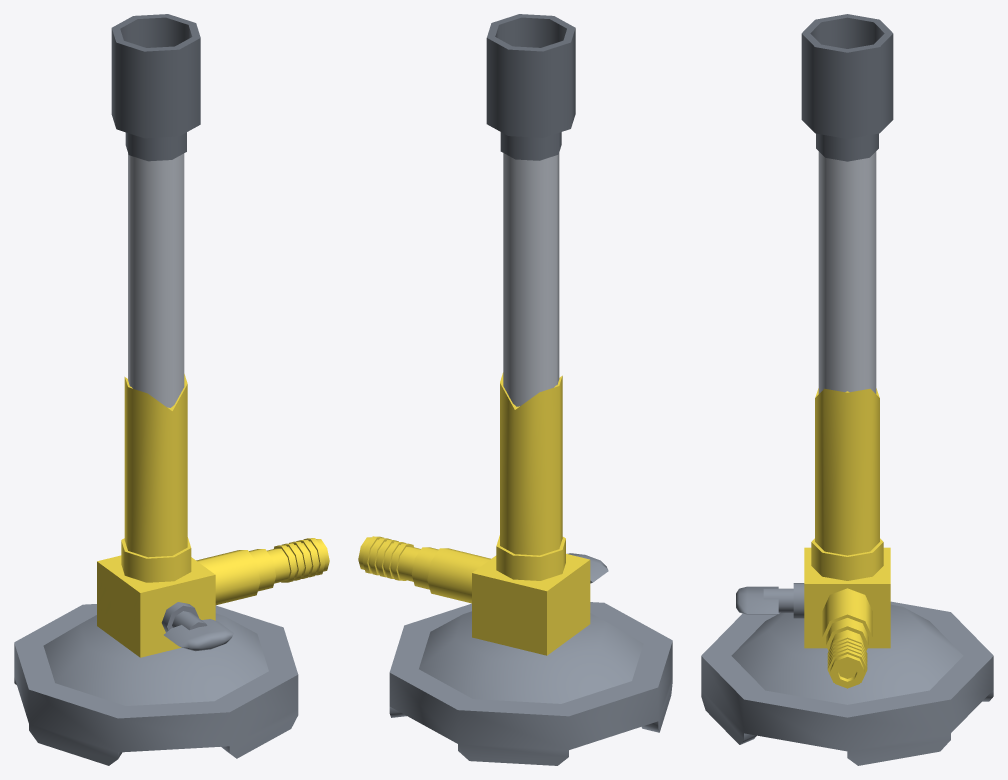
The model's file is heating_equipment_bunsen_burner_003.glb.
The picture shows the model from 3 angles, left to right: view 1: azimuth 30°, elevation 25°; view 2: azimuth 150°, elevation 25°; view 3: azimuth 270°, elevation 25°; orthographic projection.
Visible parts, largest first — view 1: heating_equipment_bunsen_burner.003; view 2: heating_equipment_bunsen_burner.003; view 3: heating_equipment_bunsen_burner.003.
Part boxes in pixels (x1,y1,x2,y2): heating_equipment_bunsen_burner.003: (14, 14, 329, 765); heating_equipment_bunsen_burner.003: (358, 14, 672, 765); heating_equipment_bunsen_burner.003: (701, 14, 993, 765).
Size of the model in its own units: 12 by 26.55 by 10.47.
1 material, 1 textured.
